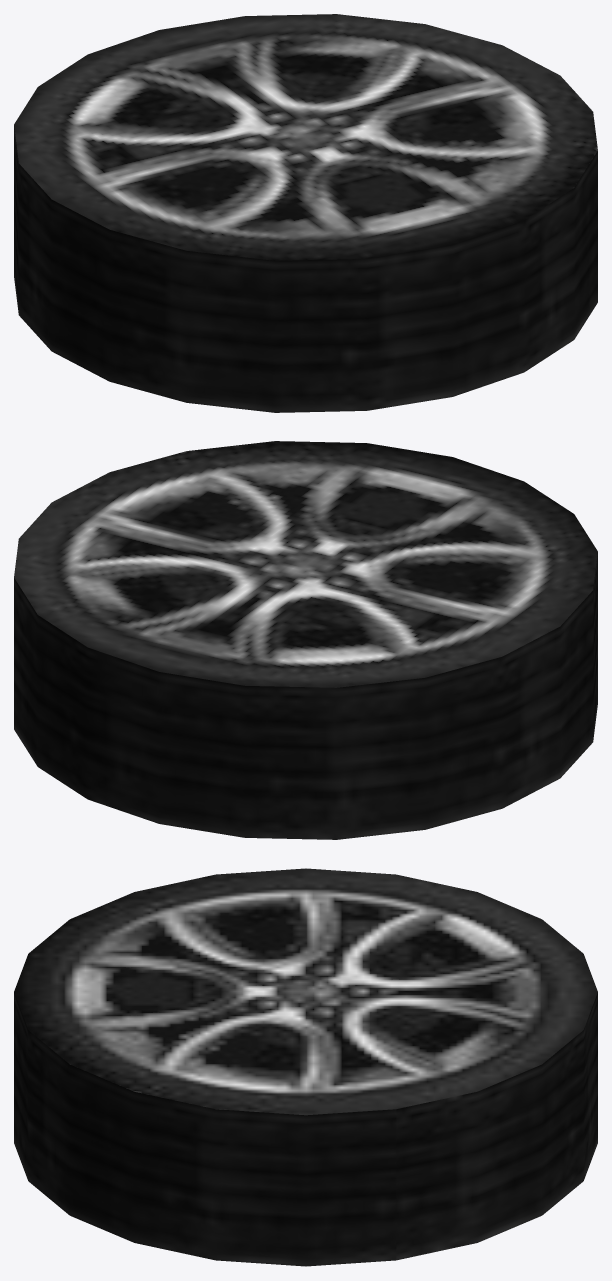
The model's file is wheel_visual.dae.
3 views of the same model, one above another, from view 1: azimuth 30°, elevation 25°; view 2: azimuth 150°, elevation 25°; view 3: azimuth 270°, elevation 25° (orthographic).
Visible parts, largest first — view 1: pCylinder1; view 2: pCylinder1; view 3: pCylinder1.
Part boxes in pixels (<box>): pCylinder1: <box>14,14,597,412</box>; pCylinder1: <box>14,441,597,839</box>; pCylinder1: <box>14,868,597,1266</box>.
Bounding box in the file's own units: 0.7 × 0.2 × 0.7.
1 material, 1 textured.
